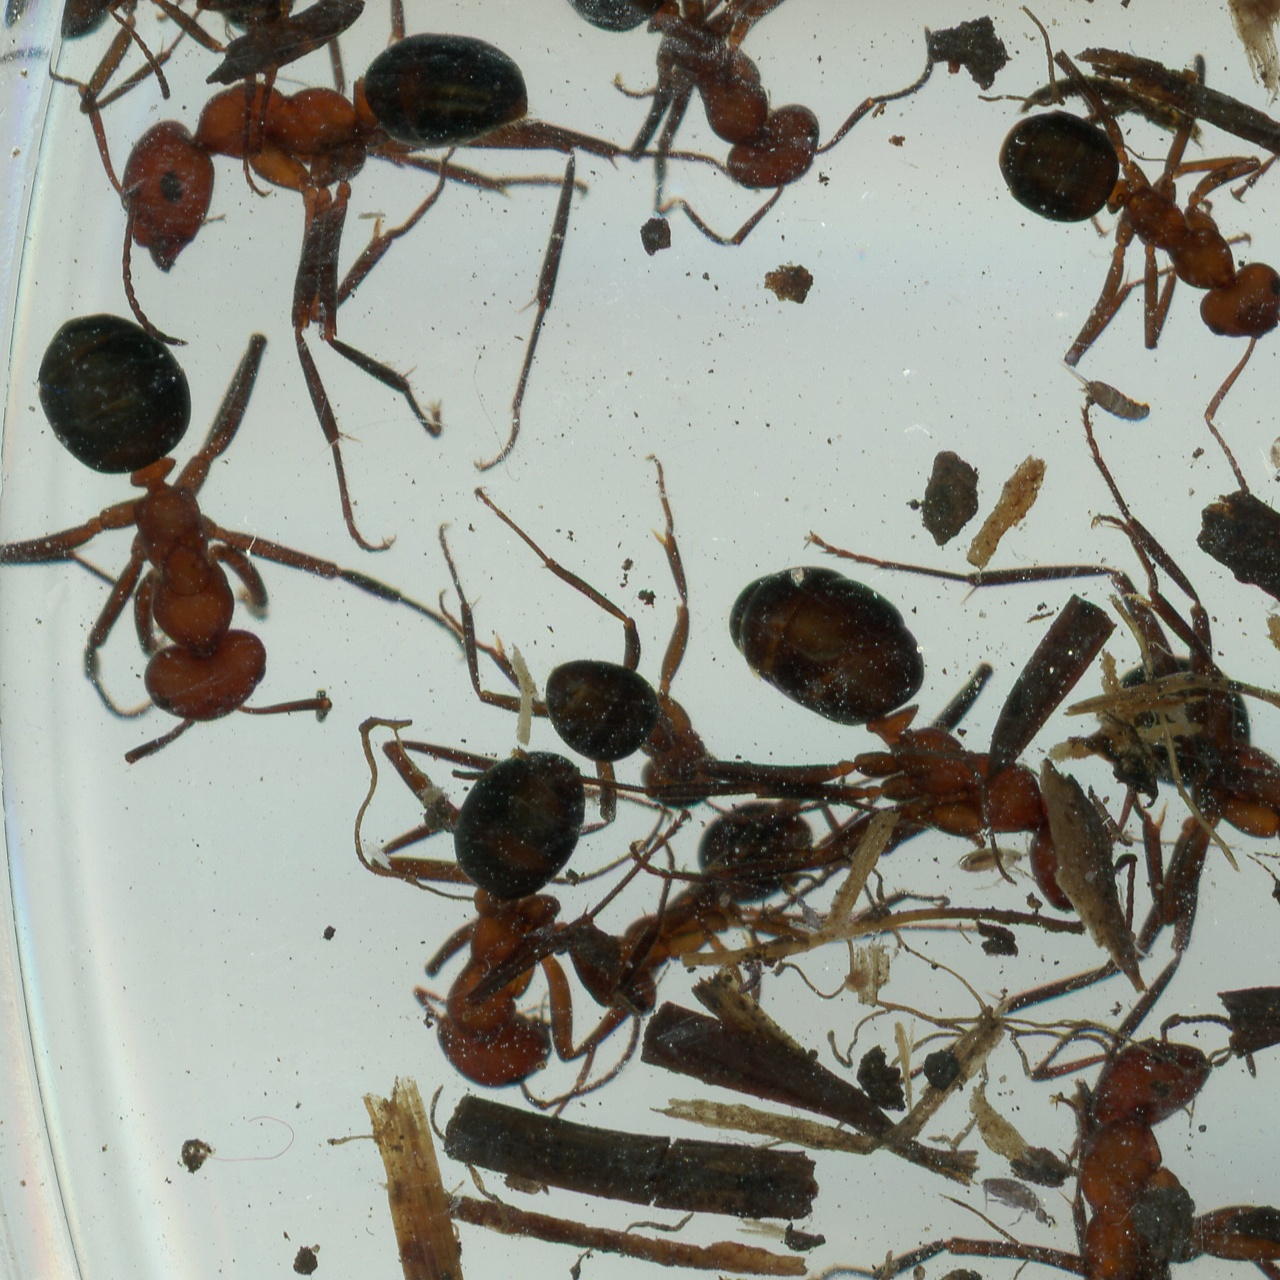arthropod: (39, 0, 804, 610), (797, 372, 1280, 1071), (0, 294, 482, 772), (894, 0, 1280, 520), (384, 0, 974, 304), (704, 558, 1135, 942), (345, 703, 695, 1112), (427, 445, 731, 874), (996, 1000, 1280, 1280), (556, 796, 825, 1073), (48, 0, 335, 109), (246, 0, 559, 45), (1051, 358, 1158, 431), (949, 829, 1037, 893), (976, 1170, 1063, 1233), (788, 884, 831, 934), (734, 948, 767, 998), (1265, 408, 1280, 477)
